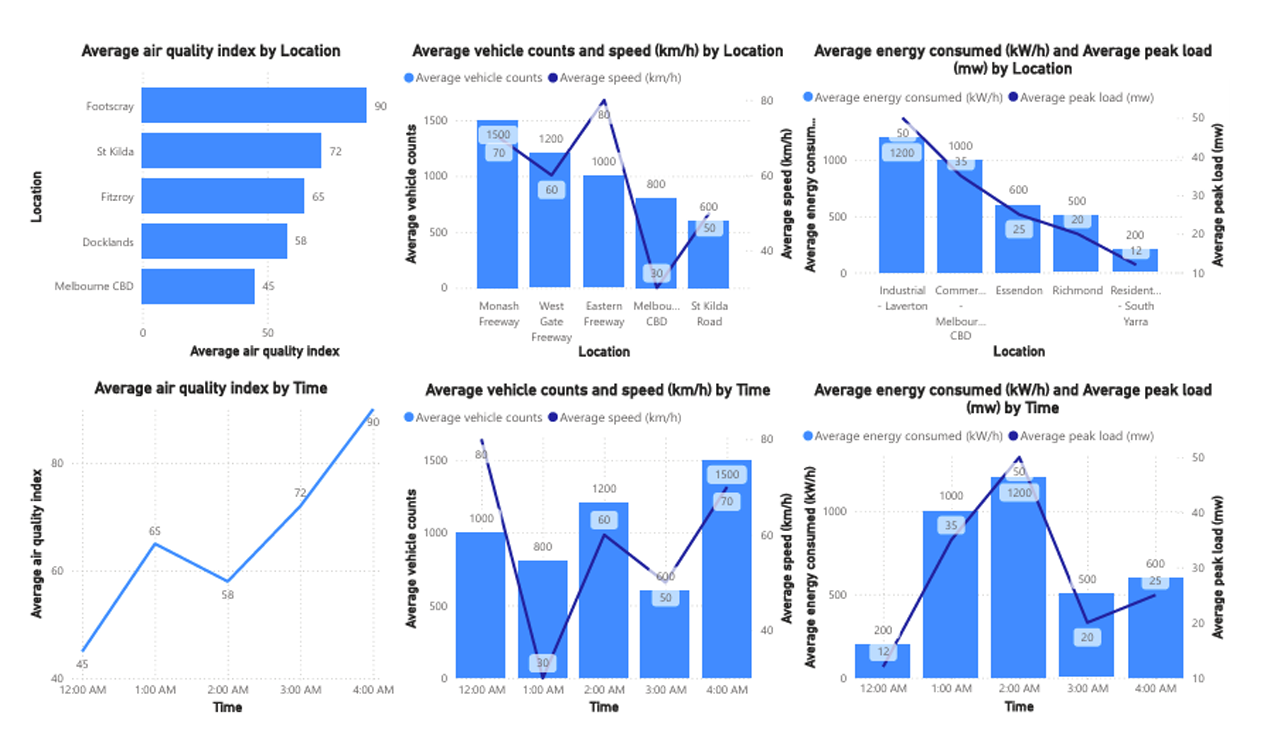

What the dashboard file says about the page in this screenshot:
{"tool":"powerbi","page":{"name":"Page 1","canvas":[1280,720],"ordinal":0},"visuals":[{"type":"barChart","title":"Average air quality index by Location","fields":{"Category":["sensorMetadata.location"],"Y":["Sum(sensorMetadata.avg_air_quality_index)"]},"box":[0,0,398.2,342.2],"z":0},{"type":"lineClusteredColumnComboChart","title":"Average vehicle counts and speed (km/h) by Location","fields":{"Category":["sensorMetadata.location"],"Y":["Sum(sensorMetadata.avg_vehicle_count)"],"Y2":["Sum(sensorMetadata.avg_avg_speed_kmh)"]},"box":[398.2,0,424,342.2],"z":1000},{"type":"lineClusteredColumnComboChart","fields":{"Category":["sensorMetadata.location"],"Y":["Sum(sensorMetadata.avg_energy_consumed_kwh)"],"Y2":["Sum(sensorMetadata.avg_peak_load_mw)"]},"box":[822.2,0,457.3,342.2],"z":2000},{"type":"lineChart","fields":{"Category":["sensorMetadata.Time"],"Y":["Sum(sensorMetadata.avg_air_quality_index)"]},"box":[0,358.2,397.8,361.6],"z":3000},{"type":"lineClusteredColumnComboChart","title":"Average vehicle counts and speed (km/h) by Time","fields":{"Y":["Sum(sensorMetadata.avg_vehicle_count)"],"Y2":["Sum(sensorMetadata.avg_avg_speed_kmh)"],"Category":["sensorMetadata.Time"]},"box":[398.2,360.4,424,358.9],"z":4000},{"type":"lineClusteredColumnComboChart","fields":{"Y":["Sum(sensorMetadata.avg_energy_consumed_kwh)"],"Y2":["Sum(sensorMetadata.avg_peak_load_mw)"],"Category":["sensorMetadata.Time"]},"box":[822.2,360.4,457.3,358.9],"z":5000}]}

Visuals, with their boxes in screenshot pixels (x1, y1, x2, y2), scaled from the page's 1280x720 canvas onto the 1279x733 screenshot:
"Average air quality index by Location" barChart: {"left": 0, "top": 0, "right": 398, "bottom": 348}
"Average vehicle counts and speed (km/h) by Location" lineClusteredColumnComboChart: {"left": 398, "top": 0, "right": 822, "bottom": 348}
lineClusteredColumnComboChart - sensorMetadata.location x Sum(sensorMetadata.avg_energy_consumed_kwh): {"left": 822, "top": 0, "right": 1278, "bottom": 348}
lineChart - sensorMetadata.Time x Sum(sensorMetadata.avg_air_quality_index): {"left": 0, "top": 365, "right": 397, "bottom": 732}
"Average vehicle counts and speed (km/h) by Time" lineClusteredColumnComboChart: {"left": 398, "top": 367, "right": 822, "bottom": 732}
lineClusteredColumnComboChart - Sum(sensorMetadata.avg_energy_consumed_kwh) x Sum(sensorMetadata.avg_peak_load_mw): {"left": 822, "top": 367, "right": 1278, "bottom": 732}
